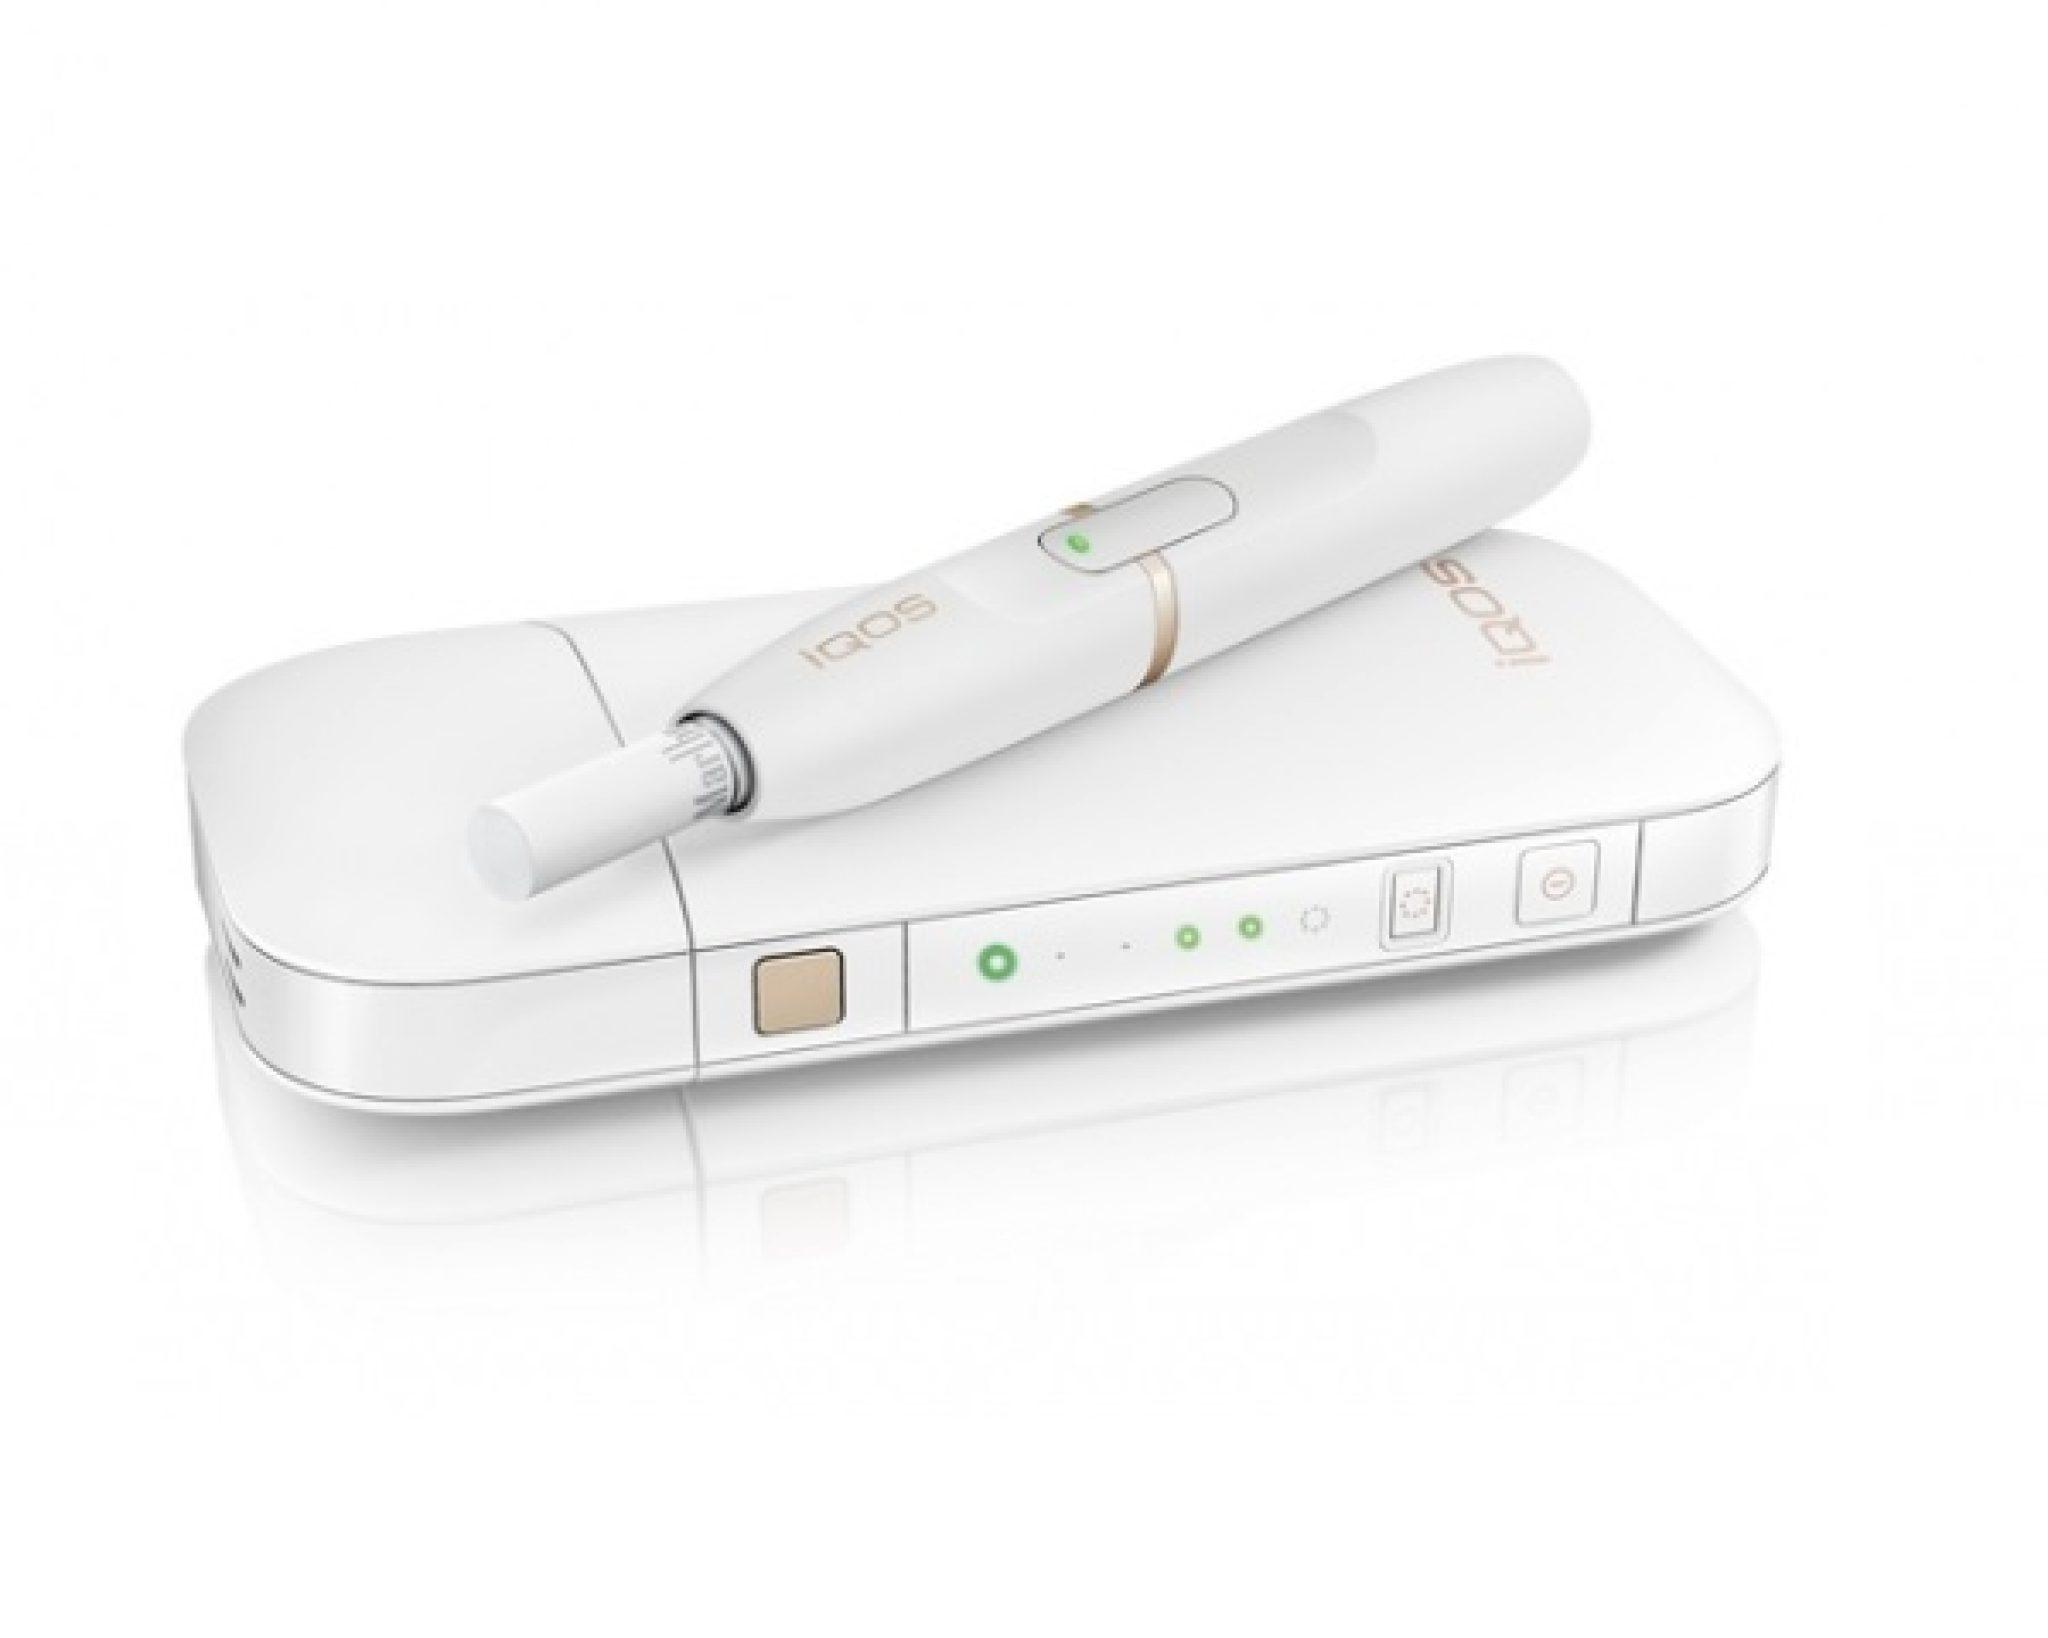iqos: (468, 359, 1585, 898)
